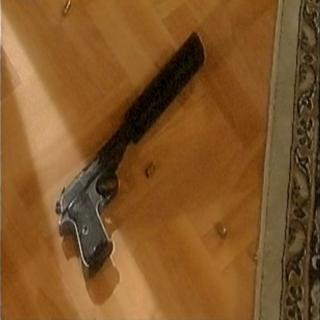gun: (46, 18, 216, 288)
